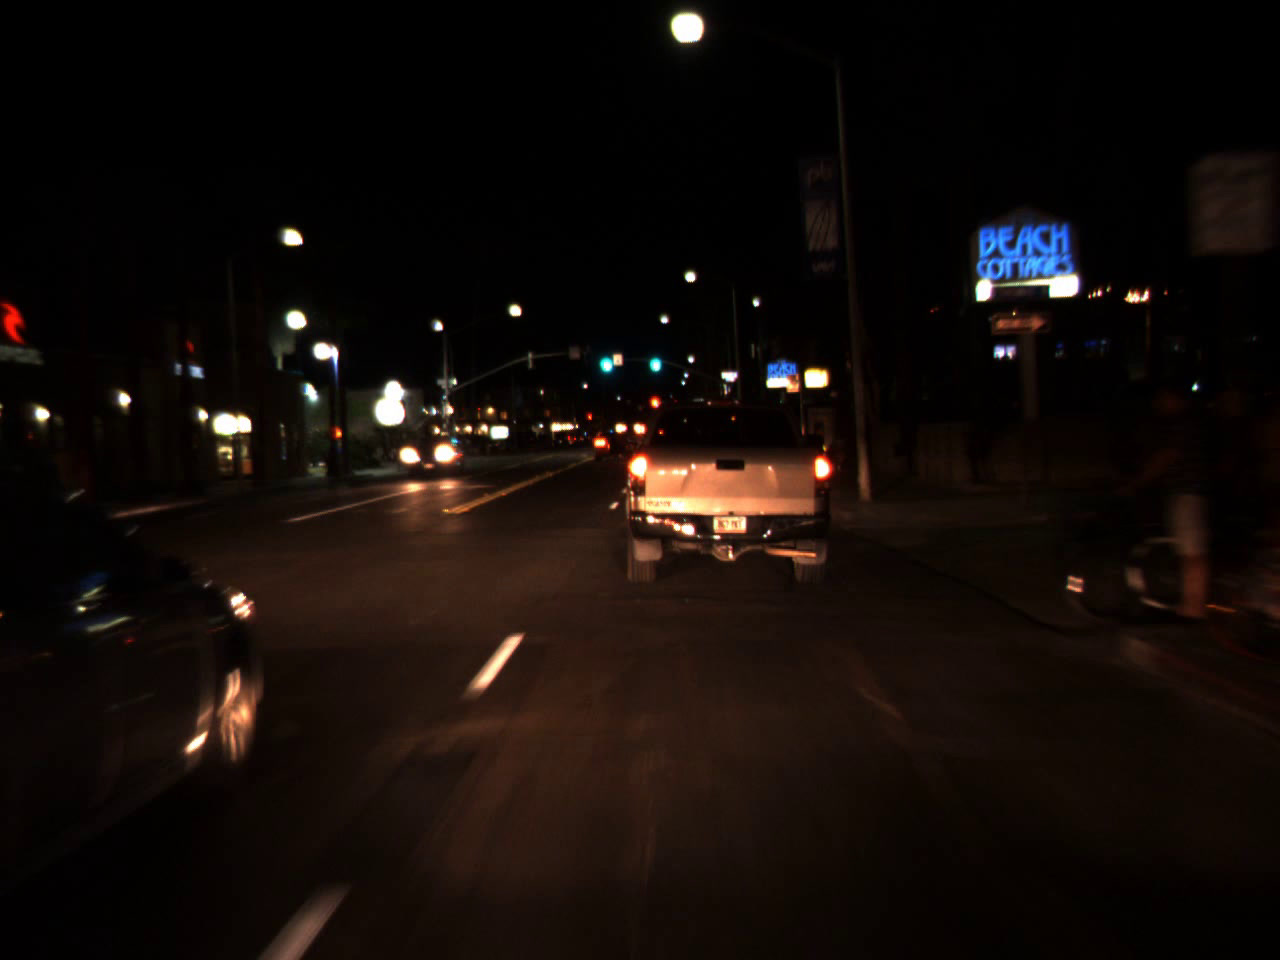go: (595, 337, 614, 379), (645, 342, 663, 375)
